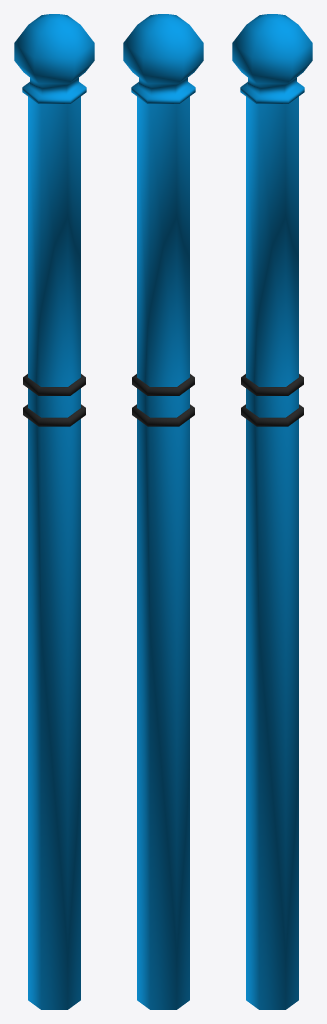
File: pillar.fbx
The picture shows the model from 3 angles, left to right: view 1: azimuth 90°, elevation 25°; view 2: azimuth 150°, elevation 25°; view 3: azimuth 270°, elevation 25°; orthographic projection.
Parts seen in each view (by area): view 1: Circle, Circle.002, Circle.001; view 2: Circle, Circle.002, Circle.001; view 3: Circle, Circle.002, Circle.001.
Boxes of the visible parts, x1,y1,x2,y2 form: Circle: (14, 14, 94, 1009); Circle.002: (23, 404, 85, 426); Circle.001: (23, 374, 85, 395); Circle: (123, 14, 203, 1009); Circle.002: (132, 404, 194, 426); Circle.001: (132, 374, 194, 395); Circle: (232, 14, 312, 1009); Circle.002: (241, 404, 303, 426); Circle.001: (241, 374, 303, 395).
Size of the model in its own units: 50.9 by 794 by 58.77.
